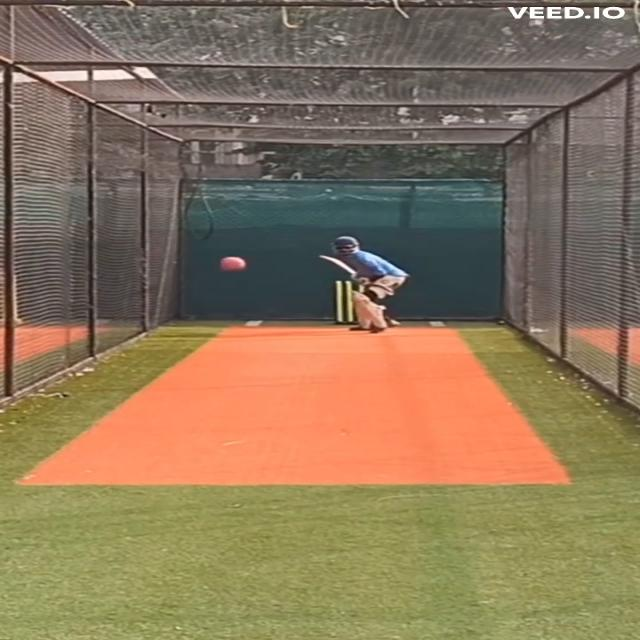ball: (217, 255, 251, 275)
stump: (333, 279, 368, 325)
